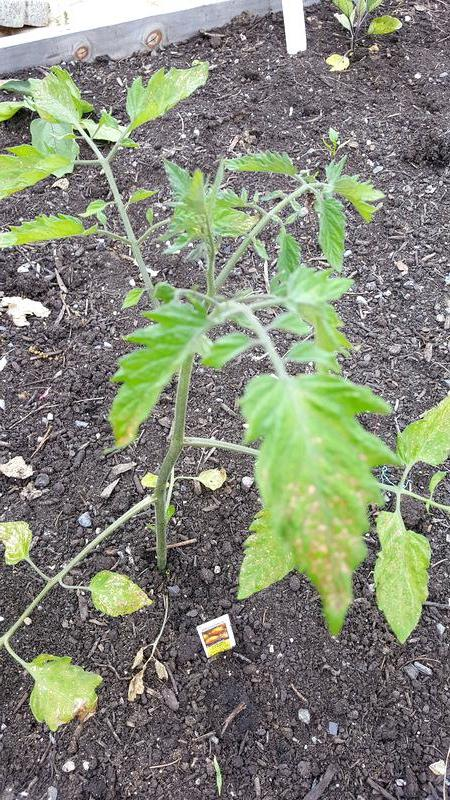Tomato leaf bacterial spot: (234, 340, 380, 642), (96, 296, 218, 451), (121, 54, 216, 141), (35, 63, 99, 140)
